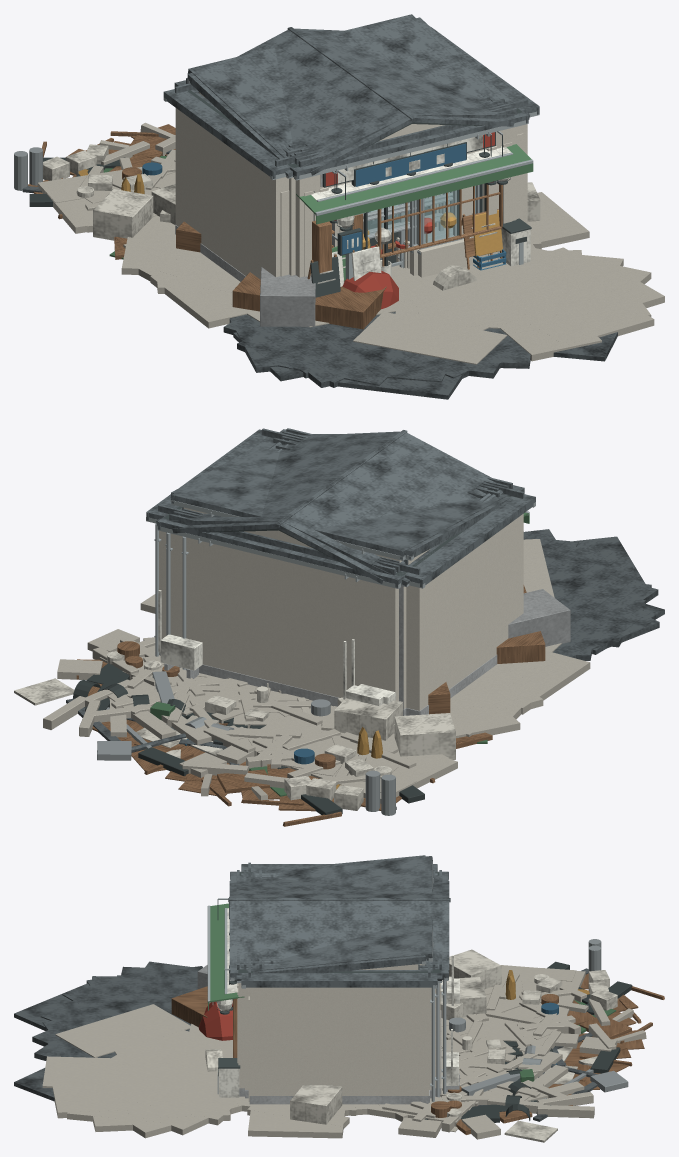
Rendered from shop_01.glb.
3 renders of one model, top to bottom at view 1: azimuth 30°, elevation 25°; view 2: azimuth 150°, elevation 25°; view 3: azimuth 270°, elevation 25°, orthographic. The views are drawn at different scales.
Parts seen in each view (by area): view 1: shop_051__LOD0_roof, shop_041__LOD0_plaster, shop_061__LOD0_roof, shop_063__wreck_static_plaster, shop_051__LOD0_green, shop_044__wreck_static_plaster, shop_041__LOD0_roof, shop_050__wreck_static_plaster, shop_064__wreck_static_roof, shop_051__wreck_static_plaster, shop_064__wreck_static_ceramic, shop_054__LOD0_plaster (+49 smaller); view 2: shop_054__LOD0_plaster, shop_051__LOD0_roof, shop_041__LOD0_plaster, shop_061__LOD0_roof, shop_041__LOD0_roof, shop_064__wreck_static_ceramic, shop_054__wreck_static_plaster, shop_064__wreck_static_roof, shop_054__LOD0_roof, shop_051__wreck_static_plaster, shop_062__wreck_static_concrete, shop_041__wreck_static_plaster (+46 smaller); view 3: shop_041__LOD0_plaster, shop_051__LOD0_roof, shop_061__LOD0_roof, shop_063__wreck_static_plaster, shop_064__wreck_static_ceramic, shop_050__wreck_static_plaster, shop_044__wreck_static_plaster, shop_041__LOD0_roof, shop_058__wreck_static_plaster, shop_064__wreck_static_roof, shop_051__wreck_static_plaster, shop_061__wreck_static_plaster (+48 smaller).
Part boxes in pixels (left/top/right/bottom): shop_051__LOD0_roof: left=195, top=29, right=529, bottom=177; shop_041__LOD0_plaster: left=175, top=108, right=527, bottom=279; shop_061__LOD0_roof: left=188, top=14, right=508, bottom=163; shop_063__wreck_static_plaster: left=76, top=190, right=588, bottom=315; shop_051__LOD0_green: left=296, top=144, right=533, bottom=224; shop_044__wreck_static_plaster: left=353, top=311, right=507, bottom=364; shop_041__LOD0_roof: left=163, top=26, right=539, bottom=178; shop_050__wreck_static_plaster: left=75, top=157, right=654, bottom=345; shop_064__wreck_static_roof: left=259, top=312, right=402, bottom=371; shop_051__wreck_static_plaster: left=150, top=192, right=589, bottom=328; shop_064__wreck_static_ceramic: left=93, top=182, right=540, bottom=240; shop_054__LOD0_plaster: left=295, top=127, right=516, bottom=277; shop_054__LOD0_plaster: left=170, top=533, right=398, bottom=700; shop_051__LOD0_roof: left=156, top=432, right=494, bottom=586; shop_041__LOD0_plaster: left=159, top=514, right=523, bottom=710; shop_061__LOD0_roof: left=171, top=440, right=507, bottom=559; shop_041__LOD0_roof: left=146, top=428, right=535, bottom=587; shop_064__wreck_static_ceramic: left=334, top=698, right=455, bottom=759; shop_054__wreck_static_plaster: left=57, top=659, right=543, bottom=803; shop_064__wreck_static_roof: left=549, top=571, right=627, bottom=632; shop_054__LOD0_roof: left=157, top=428, right=524, bottom=587; shop_051__wreck_static_plaster: left=87, top=594, right=590, bottom=714; shop_062__wreck_static_concrete: left=508, top=589, right=570, bottom=646; shop_041__wreck_static_plaster: left=99, top=648, right=520, bottom=761; shop_041__LOD0_plaster: left=249, top=987, right=429, bottom=1101; shop_051__LOD0_roof: left=235, top=875, right=443, bottom=981; shop_061__LOD0_roof: left=246, top=856, right=432, bottom=971; shop_063__wreck_static_plaster: left=98, top=989, right=565, bottom=1125; shop_064__wreck_static_ceramic: left=290, top=949, right=501, bottom=1124; shop_050__wreck_static_plaster: left=50, top=998, right=588, bottom=1118; shop_044__wreck_static_plaster: left=55, top=1004, right=543, bottom=1083; shop_041__LOD0_roof: left=241, top=862, right=437, bottom=987; shop_058__wreck_static_plaster: left=115, top=1033, right=487, bottom=1107; shop_064__wreck_static_roof: left=83, top=969, right=197, bottom=1031; shop_051__wreck_static_plaster: left=248, top=1070, right=486, bottom=1138; shop_061__wreck_static_plaster: left=67, top=994, right=594, bottom=1132.
Size of the model in its own units: 9.28 by 3.82 by 14.48.
36 materials, 35 textured.
